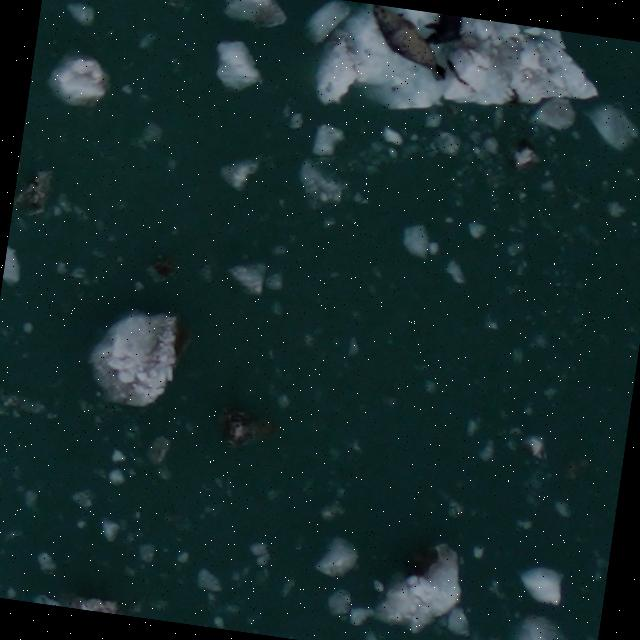seal: (359, 4, 459, 86), (416, 11, 470, 54)
